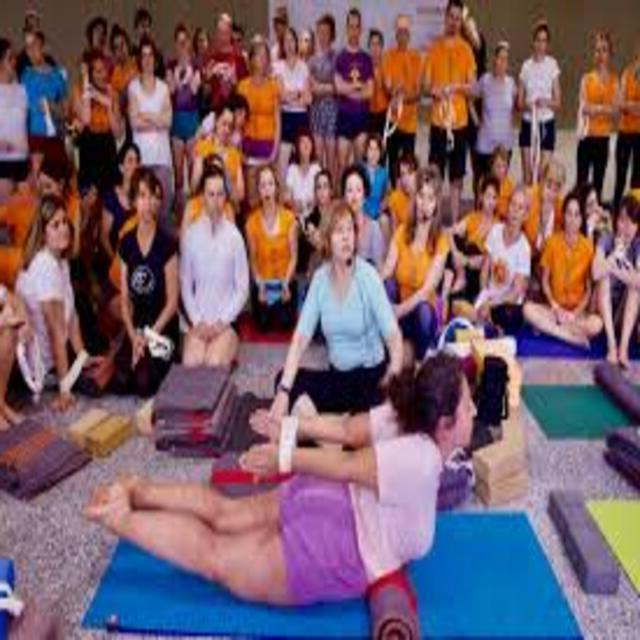Locust_Pose: (84, 353, 479, 606)
